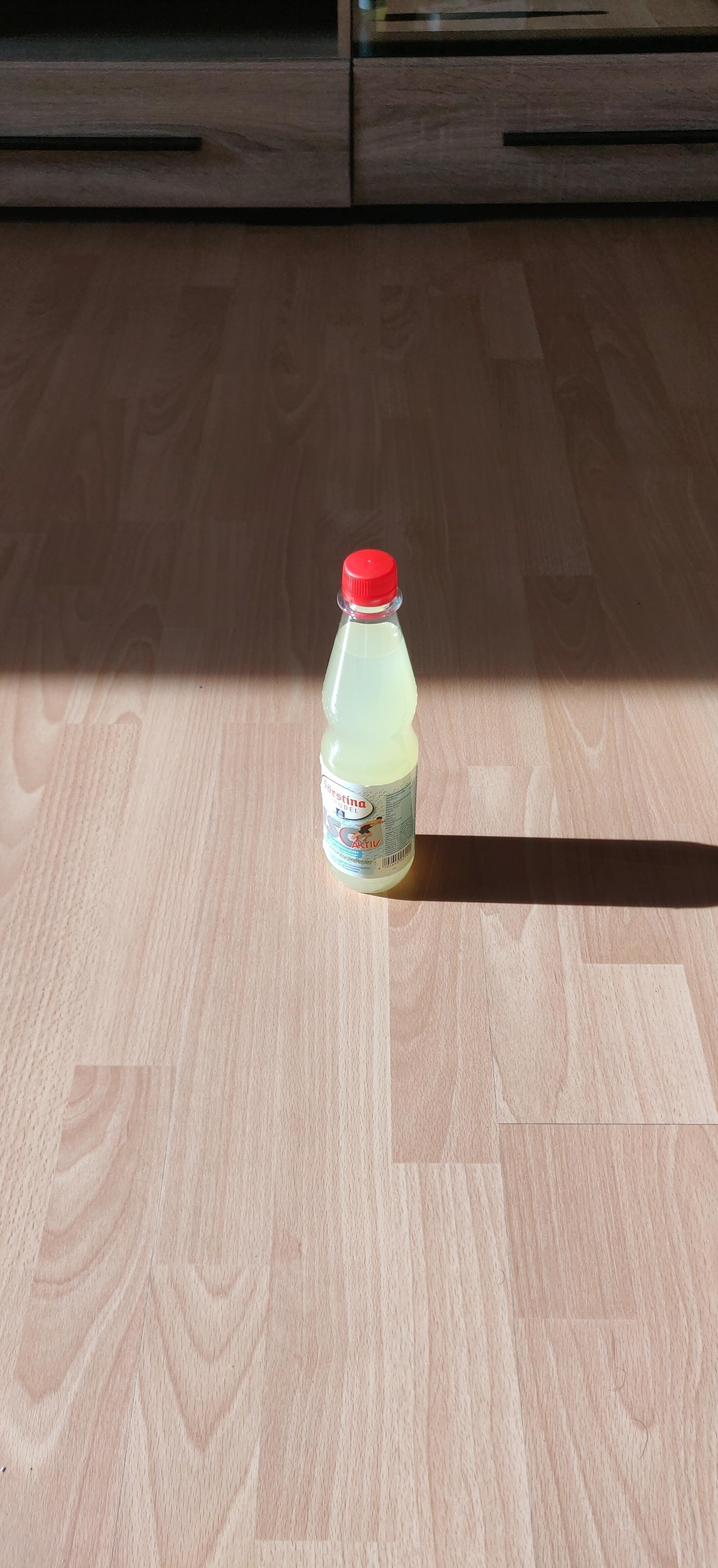bottle-plastic: (316, 548, 424, 896)
